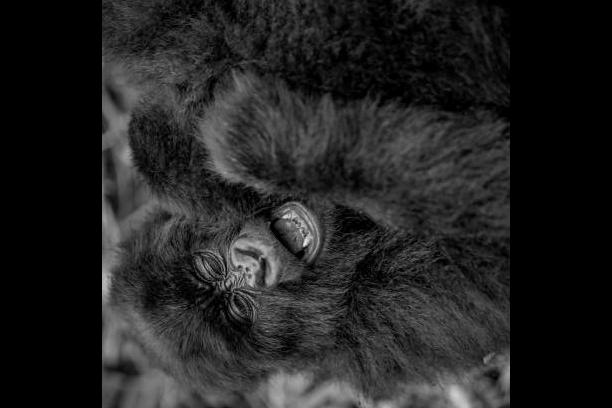goriile_montagne: (102, 0, 510, 404)
